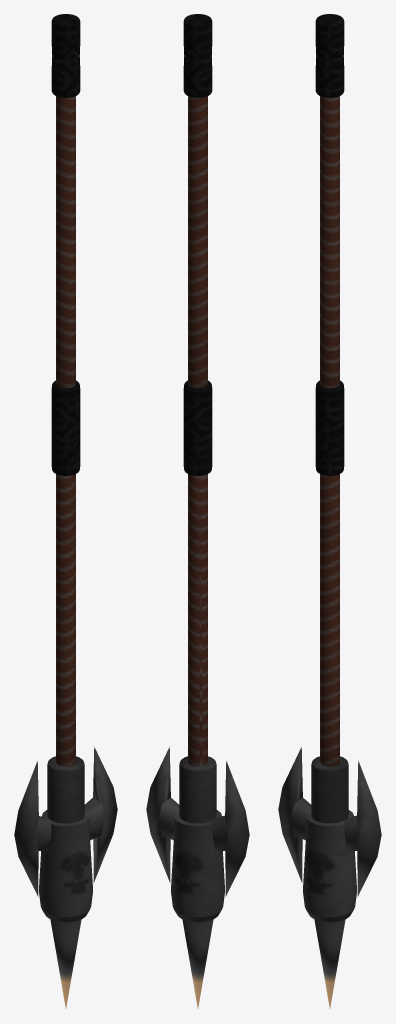
File: SpearGungnir.fbx
3 renders of one model, left to right at view 1: azimuth 30°, elevation 25°; view 2: azimuth 150°, elevation 25°; view 3: azimuth 330°, elevation 25°, orthographic.
Parts seen in each view (by area): view 1: Gungnir.001; view 2: Gungnir.001; view 3: Gungnir.001.
Part boxes in pixels (x1=…): Gungnir.001: x1=14, y1=14, x2=117, y2=1008; Gungnir.001: x1=146, y1=14, x2=249, y2=1008; Gungnir.001: x1=278, y1=14, x2=381, y2=1008.
Size of the model in its own units: 0.104 by 0.9519 by 0.0474.
